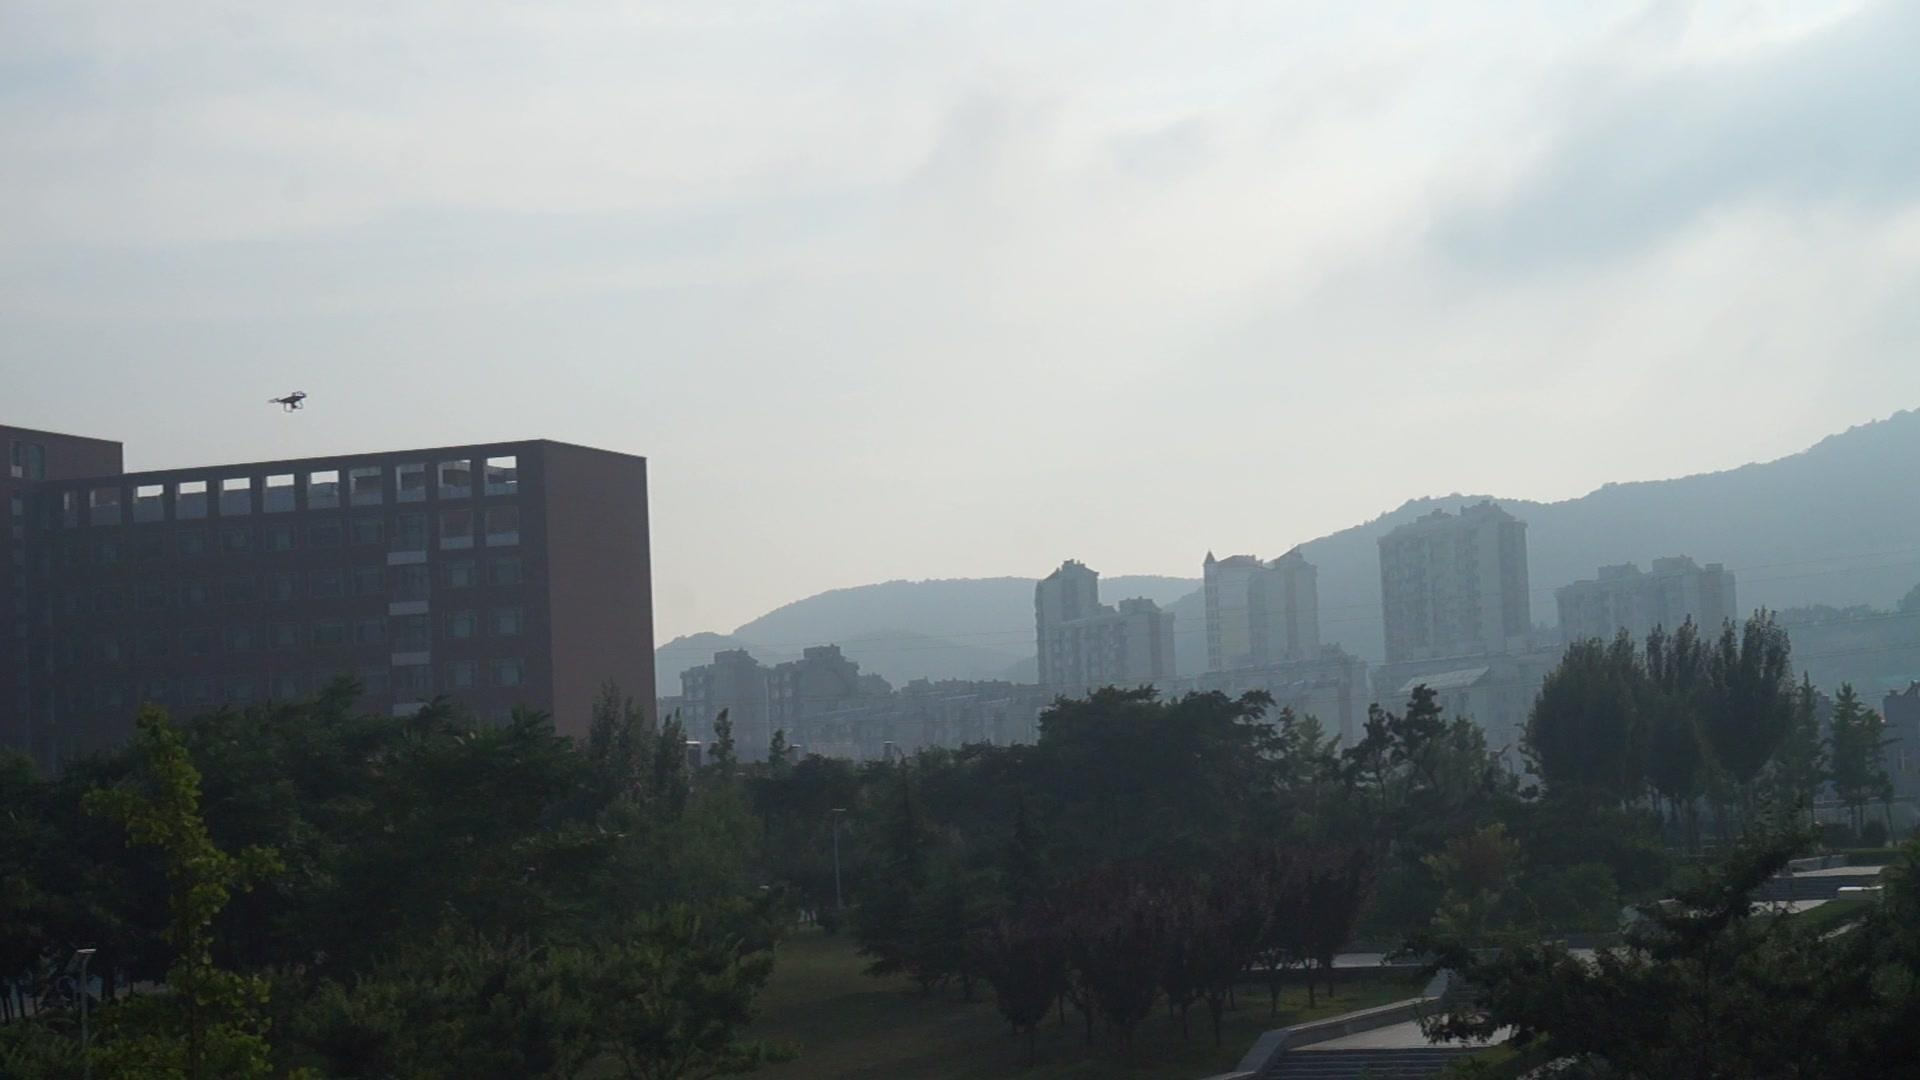UAV: (266, 392, 309, 414)
